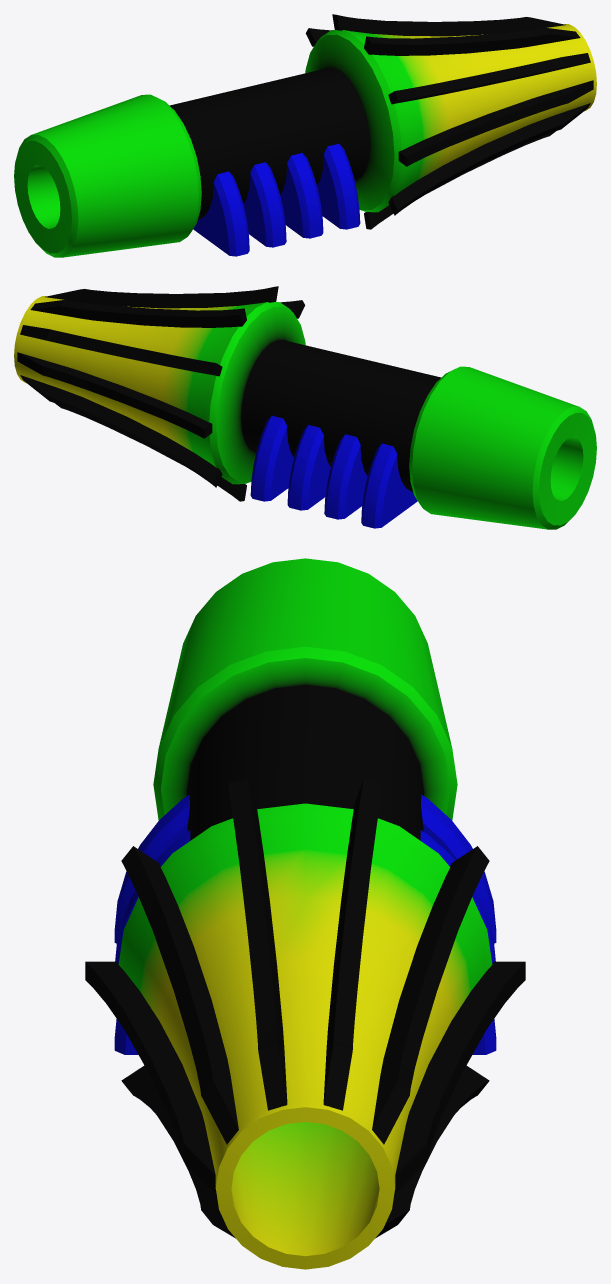
The model's file is TurretBarrel2.fbx.
The picture shows the model from 3 angles, top to bottom: view 1: azimuth 30°, elevation 25°; view 2: azimuth 150°, elevation 25°; view 3: azimuth 270°, elevation 25°; orthographic projection. The views are drawn at different scales.
Visible parts, largest first — view 1: TurretBarrel; view 2: TurretBarrel; view 3: TurretBarrel.
Boxes of the visible parts, left/top/right/bottom form: TurretBarrel: left=14, top=14, right=596, bottom=257; TurretBarrel: left=14, top=286, right=596, bottom=529; TurretBarrel: left=85, top=558, right=525, bottom=1269.
Size of the model in its own units: 241 by 83.3 by 86.29.
